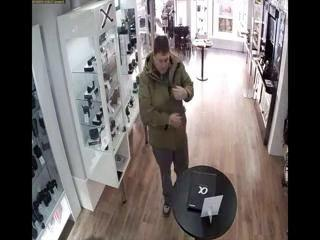shoplifting: (148, 81, 184, 121)
